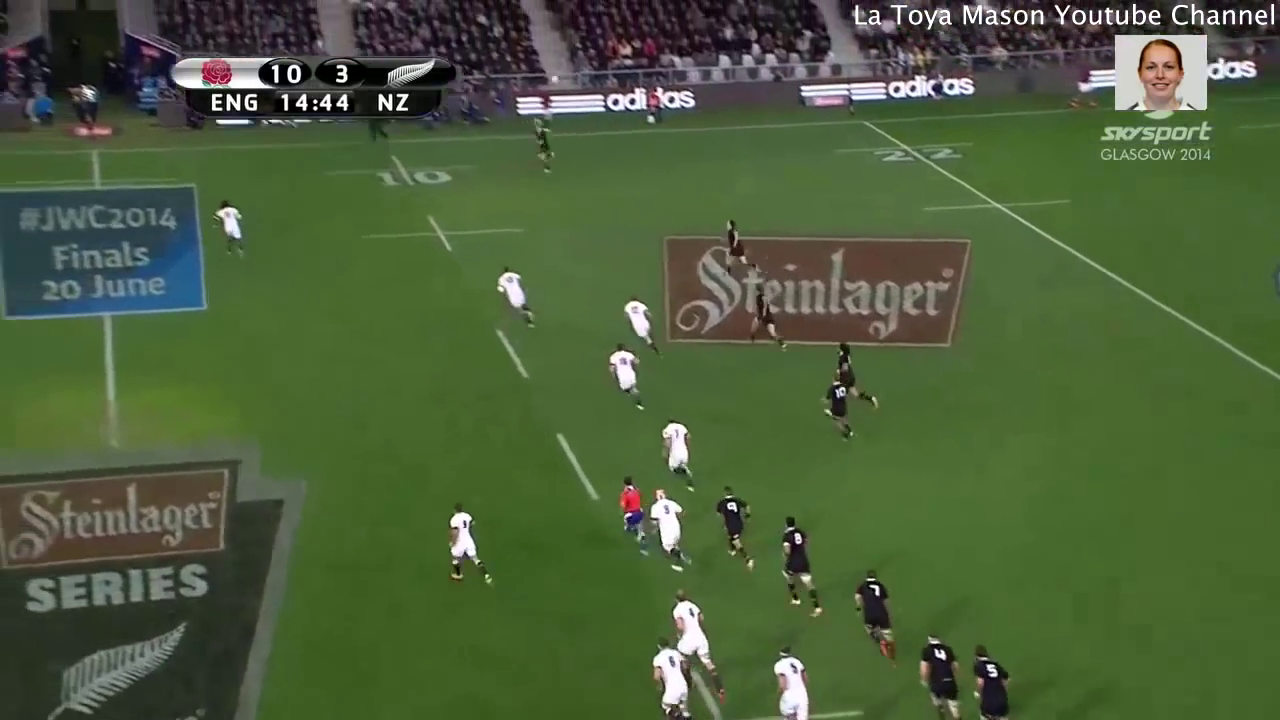10_metre: (359, 207, 531, 264), (320, 148, 492, 194)
player: (669, 589, 736, 713), (845, 560, 909, 674), (775, 506, 827, 628), (641, 624, 701, 720), (439, 498, 499, 593), (909, 629, 969, 720), (763, 640, 824, 720), (710, 484, 761, 578), (643, 486, 696, 576), (488, 260, 549, 337), (967, 639, 1024, 720), (601, 336, 653, 418), (612, 472, 658, 564), (829, 336, 883, 412), (741, 277, 790, 358), (714, 214, 769, 284), (816, 372, 864, 451), (657, 416, 704, 496), (614, 293, 667, 362), (205, 192, 251, 267), (524, 117, 564, 177)
